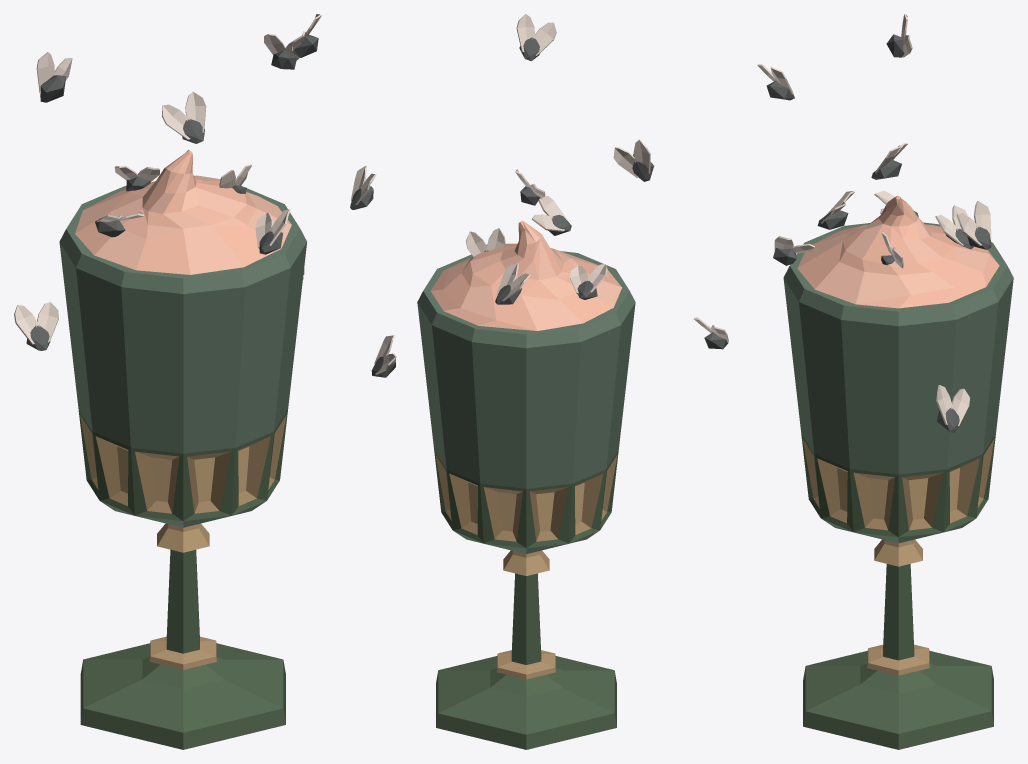
File: WF_LP_HT_Props_Drink.002.fbx
3 renders of one model, left to right at view 1: azimuth 30°, elevation 25°; view 2: azimuth 150°, elevation 25°; view 3: azimuth 270°, elevation 25°, orthographic. The views are drawn at different scales.
Visible parts, largest first — view 1: WF_LP_HT_Props_Drink.002; view 2: WF_LP_HT_Props_Drink.002; view 3: WF_LP_HT_Props_Drink.002.
Boxes of the visible parts, x1,y1,x2,y2 form: WF_LP_HT_Props_Drink.002: (14,14,321,749); WF_LP_HT_Props_Drink.002: (350,14,728,749); WF_LP_HT_Props_Drink.002: (757,14,1013,749).
Size of the model in its own units: 0.1879 by 0.3614 by 0.1259.
